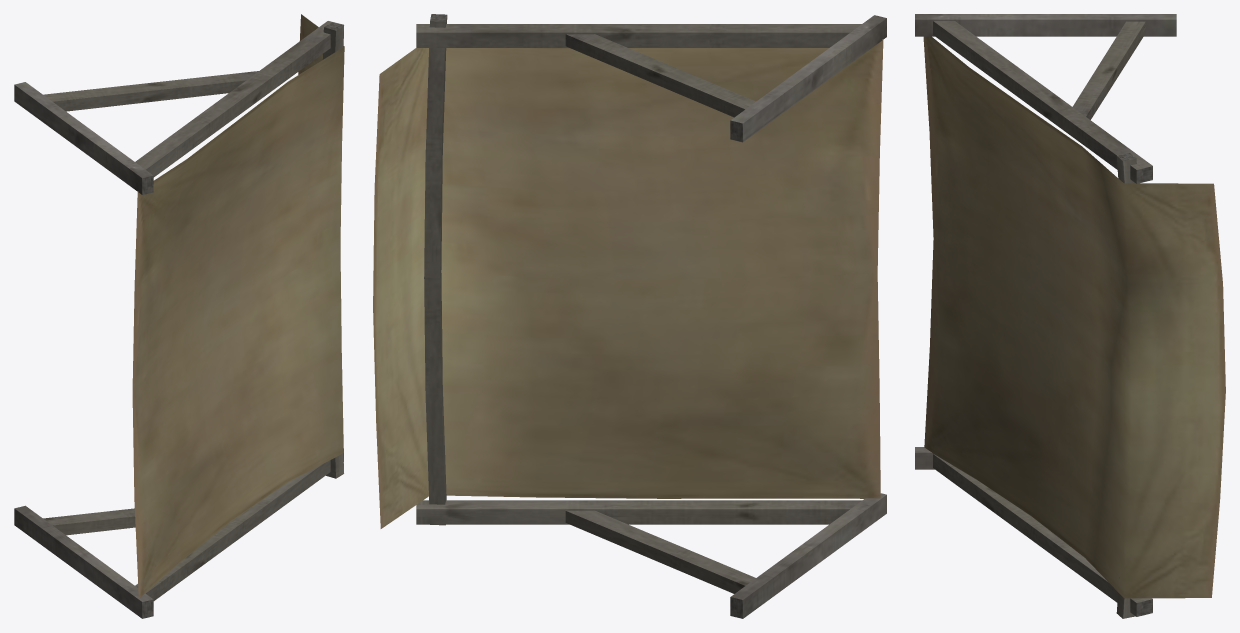
The model's file is awning_3x4_1.glb.
3 renders of one model, left to right at view 1: azimuth 30°, elevation 25°; view 2: azimuth 150°, elevation 25°; view 3: azimuth 270°, elevation 25°, orthographic. The views are drawn at different scales.
Bounding box in the file's own units: 37.08 × 51.08 × 31.43.
Materials: 2 (2 with a texture image).
